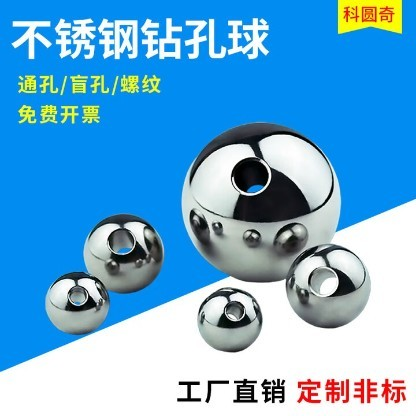ironball: (180, 120, 341, 282), (284, 242, 370, 328), (82, 212, 164, 293), (196, 286, 262, 352), (44, 270, 109, 335)
